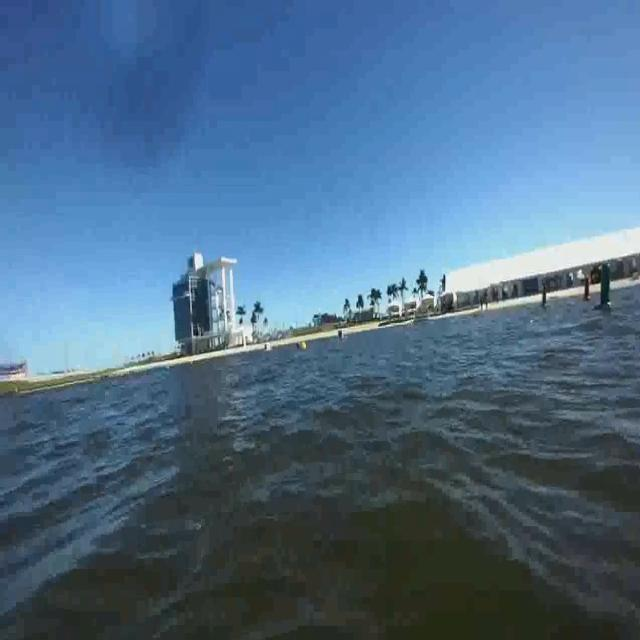green-column-buoy: (596, 260, 614, 312)
red-column-buoy: (581, 270, 593, 304)
